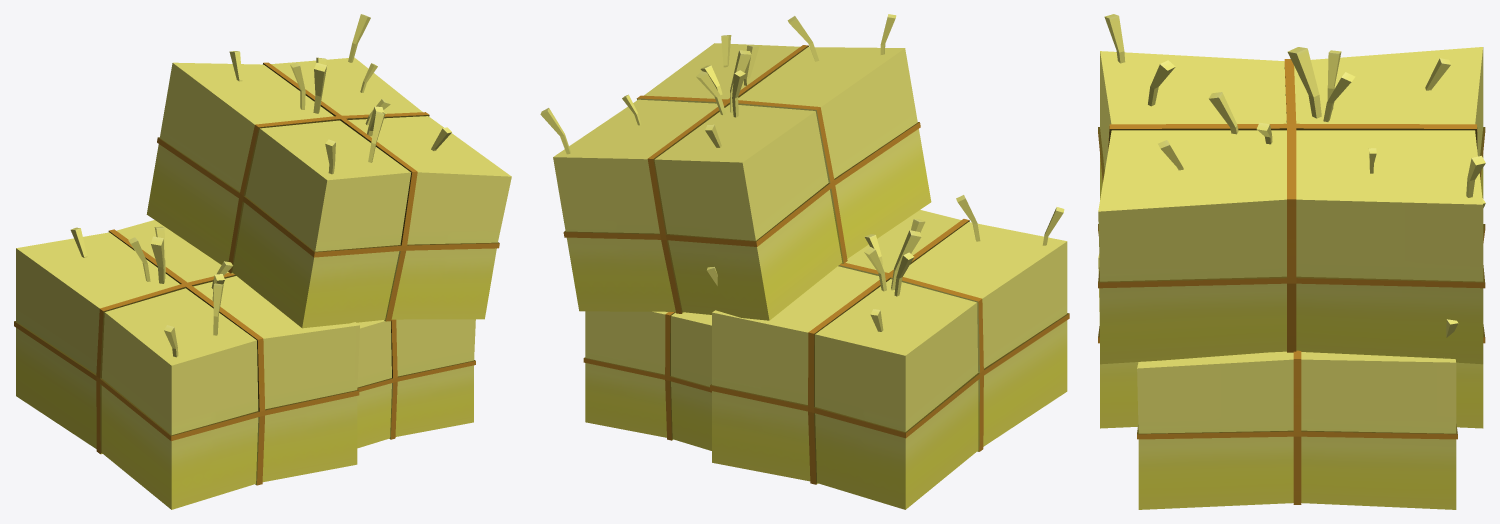
The model's file is Fenos.glb.
3 renders of one model, left to right at view 1: azimuth 30°, elevation 25°; view 2: azimuth 150°, elevation 25°; view 3: azimuth 270°, elevation 25°, orthographic. The views are drawn at different scales.
Parts seen in each view (by area): view 1: Fenos; view 2: Fenos; view 3: Fenos.
Part boxes in pixels (box(x1,y1,x2,y2)): Fenos: box(14, 14, 511, 509); Fenos: box(540, 14, 1069, 509); Fenos: box(1098, 14, 1485, 509).
Size of the model in its own units: 2.04 by 1.83 by 1.57.
1 material, 1 textured.
